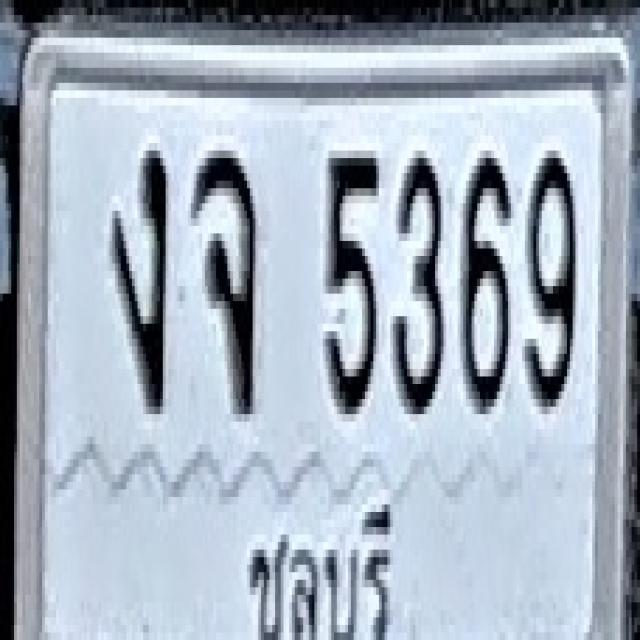3: (393, 147, 443, 410)
5: (324, 147, 378, 410)
6: (460, 147, 511, 410)
9: (525, 143, 575, 407)
A07: (111, 140, 167, 410)
A08: (191, 143, 255, 414)
CBI: (236, 490, 397, 640)
